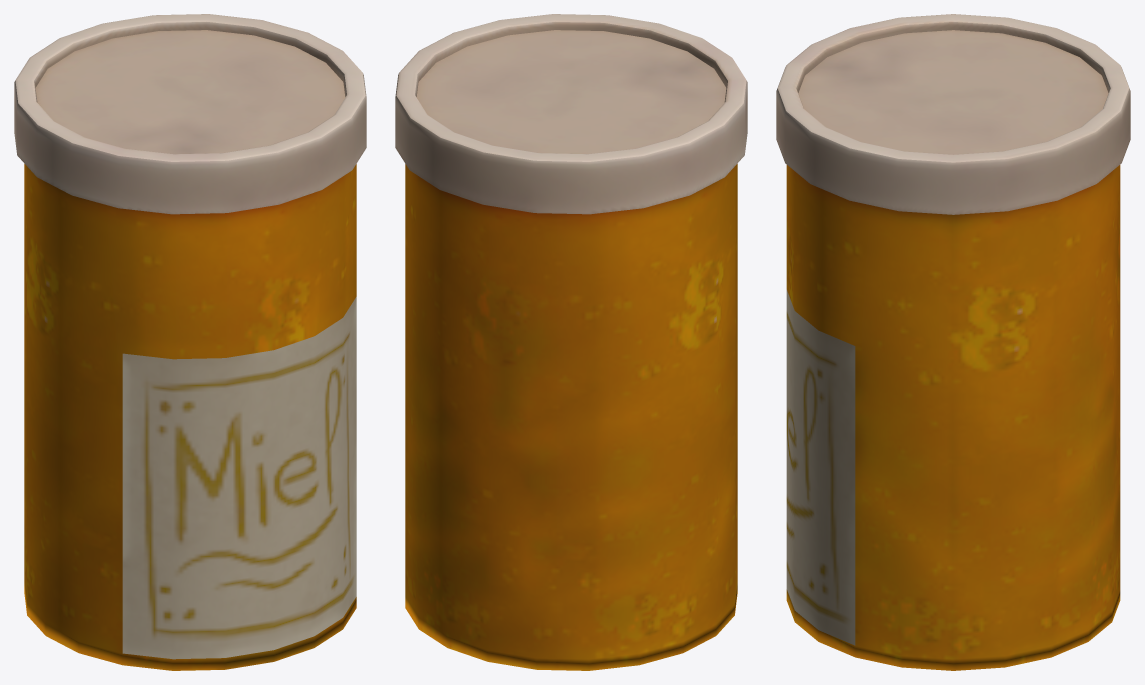
The model's file is SM_FoodPot_11.fbx.
3 renders of one model, left to right at view 1: azimuth 30°, elevation 25°; view 2: azimuth 150°, elevation 25°; view 3: azimuth 270°, elevation 25°, orthographic.
Visible parts, largest first — view 1: SM_FoodPot_11_LOD0; view 2: SM_FoodPot_11_LOD0; view 3: SM_FoodPot_11_LOD0.
Boxes of the visible parts, x1=… form: SM_FoodPot_11_LOD0: x1=14, y1=14, x2=366, y2=670; SM_FoodPot_11_LOD0: x1=395, y1=14, x2=747, y2=670; SM_FoodPot_11_LOD0: x1=776, y1=14, x2=1130, y2=670.
Size of the model in its own units: 7.43 by 7.43 by 11.89.
2 materials, 2 textured.
